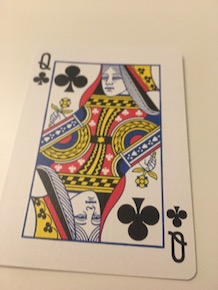QueenOfClubs: (1, 41, 201, 284)
